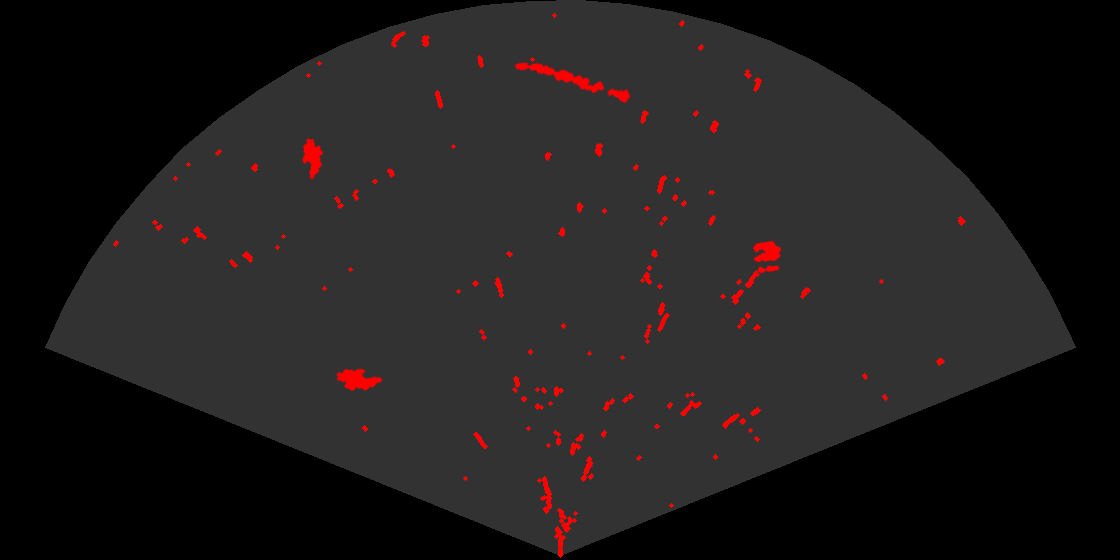AUV: (335, 367, 384, 392), (301, 136, 325, 182)
ball: (751, 239, 783, 275)
chain: (513, 61, 633, 105)
